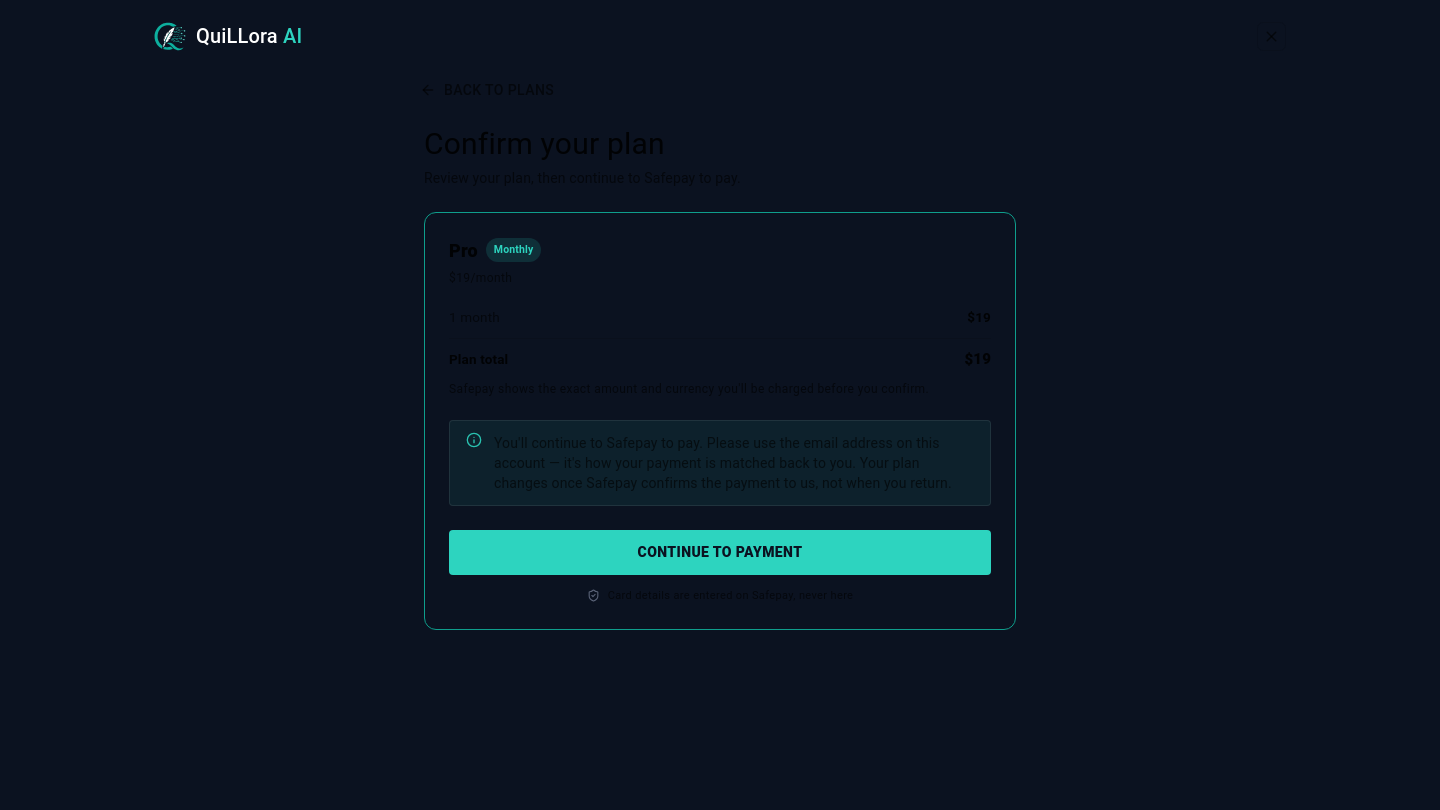
Test: Starting a Safepay checkout › does not navigate when the server returns no URL
Click the button "Continue to payment" at x=720, y=552, box [449,530,991,575]
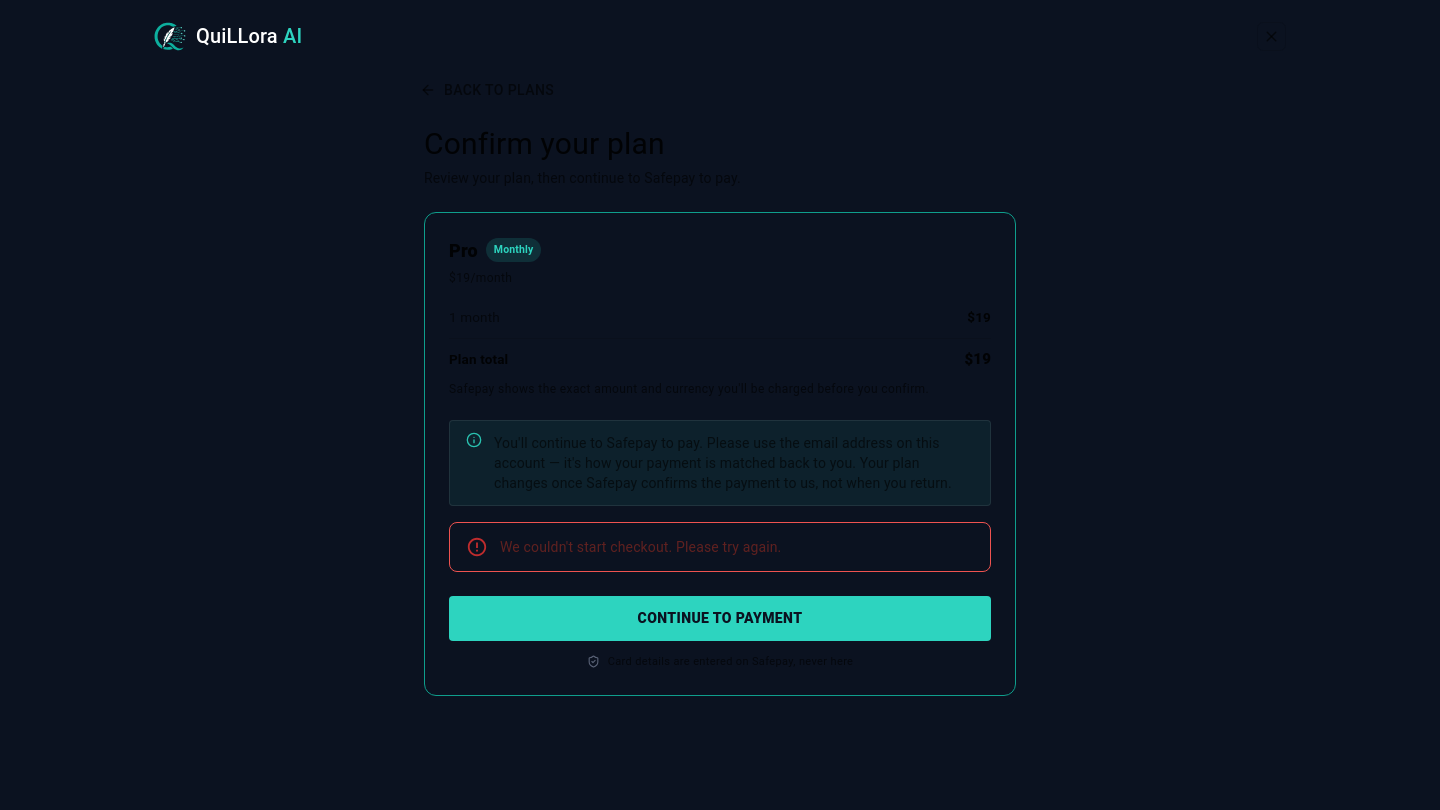
Result: the text "We couldn't start checkout. Please try again." is shown at [500,539,782,555]
